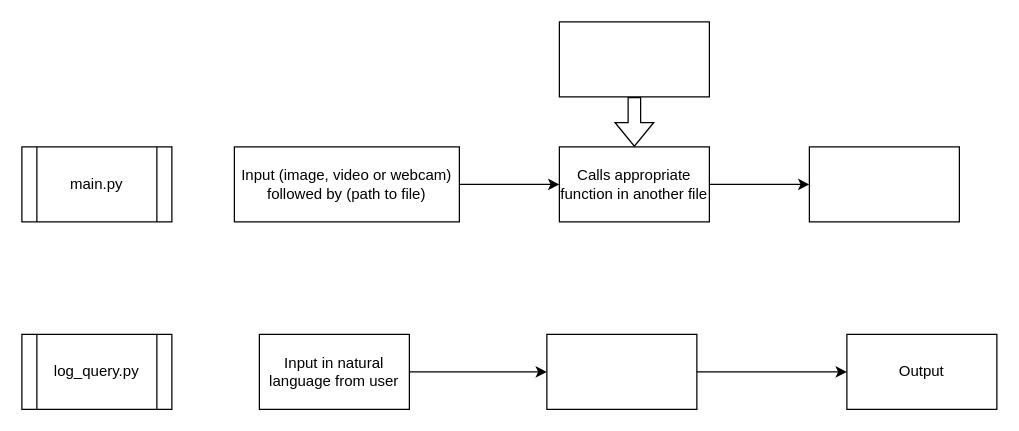
This 1019x431 diagram has some shape labels left out. The shapes that lost their labels are listed below. From the top down, each one's centre as x and y in pixels, then its label:
At point (633, 59): "Constant looping for logging of frames".
At point (883, 184): "Logs the frame in sql3 as well as txt file".
At point (621, 371): "LLM call and queries the DB".
